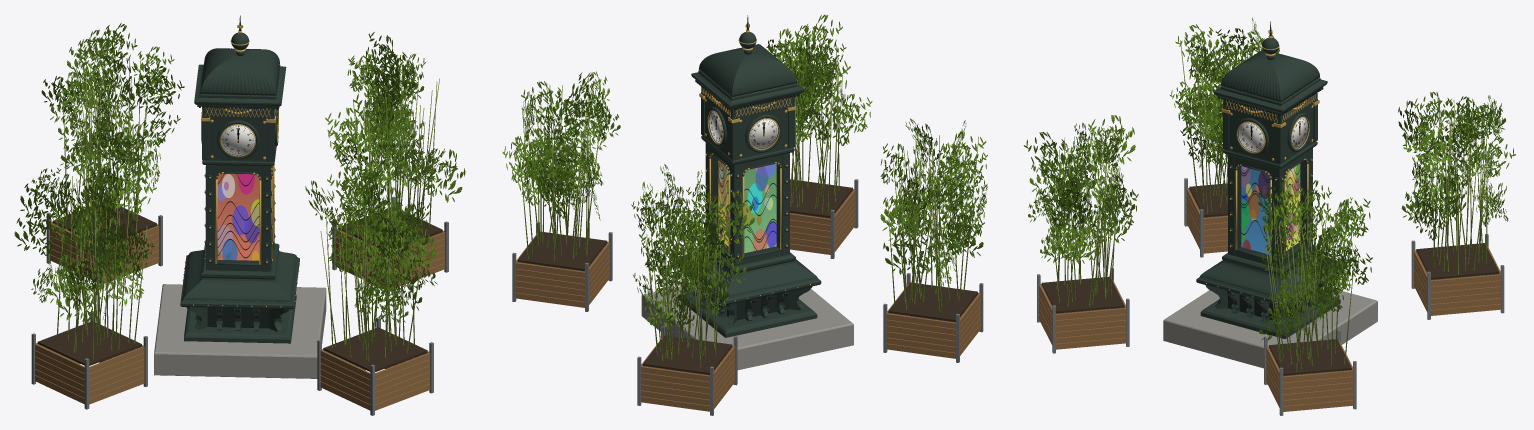
Rendered from kroepcke_uhr.glb.
3 renders of one model, left to right at view 1: azimuth 30°, elevation 25°; view 2: azimuth 150°, elevation 25°; view 3: azimuth 270°, elevation 25°, orthographic. The views are drawn at different scales.
Visible parts, largest first — view 1: Kroepcke_Uhr_Bambus_Blatt, Kroepcke_Uhr_Gusseisen_Gruen, Kroepcke_Uhr_Holz_Pflanzkuebel, Kroepcke_Uhr_Bambus_Halm, Kroepcke_Uhr_Granit_Stufe, Kroepcke_Uhr_Erde_Rinde, Kroepcke_Uhr_Vitrine_Kunst_2, Kroepcke_Uhr_Vitrinenglas, Kroepcke_Uhr_Stahl_verzinkt, Kroepcke_Uhr_Blattgold, Kroepcke_Uhr_Gusseisen_Dunkel, Kroepcke_Uhr_Zifferblatt; view 2: Kroepcke_Uhr_Bambus_Blatt, Kroepcke_Uhr_Gusseisen_Gruen, Kroepcke_Uhr_Holz_Pflanzkuebel, Kroepcke_Uhr_Bambus_Halm, Kroepcke_Uhr_Erde_Rinde, Kroepcke_Uhr_Granit_Stufe, Kroepcke_Uhr_Vitrinenglas, Kroepcke_Uhr_Vitrine_Kunst_3, Kroepcke_Uhr_Stahl_verzinkt, Kroepcke_Uhr_Blattgold, Kroepcke_Uhr_Zifferblatt, Kroepcke_Uhr_Gusseisen_Dunkel (+1 smaller); view 3: Kroepcke_Uhr_Bambus_Blatt, Kroepcke_Uhr_Gusseisen_Gruen, Kroepcke_Uhr_Holz_Pflanzkuebel, Kroepcke_Uhr_Bambus_Halm, Kroepcke_Uhr_Erde_Rinde, Kroepcke_Uhr_Granit_Stufe, Kroepcke_Uhr_Vitrinenglas, Kroepcke_Uhr_Vitrine_Kunst_1, Kroepcke_Uhr_Stahl_verzinkt, Kroepcke_Uhr_Blattgold, Kroepcke_Uhr_Zifferblatt, Kroepcke_Uhr_Vitrine_Kunst_0 (+1 smaller).
Boxes of the visible parts, left/top/right/bottom form: Kroepcke_Uhr_Bambus_Blatt: left=14, top=23, right=465, bottom=323; Kroepcke_Uhr_Gusseisen_Gruen: left=180, top=15, right=299, bottom=343; Kroepcke_Uhr_Holz_Pflanzkuebel: left=35, top=222, right=445, bottom=410; Kroepcke_Uhr_Bambus_Halm: left=56, top=55, right=439, bottom=361; Kroepcke_Uhr_Granit_Stufe: left=154, top=284, right=326, bottom=378; Kroepcke_Uhr_Erde_Rinde: left=37, top=201, right=442, bottom=372; Kroepcke_Uhr_Vitrine_Kunst_2: left=217, top=173, right=259, bottom=260; Kroepcke_Uhr_Vitrinenglas: left=218, top=174, right=258, bottom=263; Kroepcke_Uhr_Stahl_verzinkt: left=31, top=190, right=448, bottom=415; Kroepcke_Uhr_Blattgold: left=180, top=24, right=299, bottom=307; Kroepcke_Uhr_Gusseisen_Dunkel: left=197, top=105, right=279, bottom=328; Kroepcke_Uhr_Zifferblatt: left=221, top=124, right=254, bottom=155; Kroepcke_Uhr_Bambus_Blatt: left=502, top=14, right=987, bottom=331; Kroepcke_Uhr_Gusseisen_Gruen: left=678, top=15, right=821, bottom=337; Kroepcke_Uhr_Holz_Pflanzkuebel: left=515, top=189, right=980, bottom=411; Kroepcke_Uhr_Bambus_Halm: left=519, top=35, right=978, bottom=368; Kroepcke_Uhr_Erde_Rinde: left=517, top=179, right=977, bottom=374; Kroepcke_Uhr_Granit_Stufe: left=641, top=284, right=853, bottom=369; Kroepcke_Uhr_Vitrinenglas: left=713, top=156, right=779, bottom=255; Kroepcke_Uhr_Vitrine_Kunst_3: left=744, top=164, right=776, bottom=253; Kroepcke_Uhr_Stahl_verzinkt: left=512, top=179, right=983, bottom=415; Kroepcke_Uhr_Blattgold: left=699, top=24, right=810, bottom=301; Kroepcke_Uhr_Zifferblatt: left=709, top=111, right=778, bottom=148; Kroepcke_Uhr_Gusseisen_Dunkel: left=695, top=80, right=800, bottom=320; Kroepcke_Uhr_Bambus_Blatt: left=1023, top=18, right=1515, bottom=340; Kroepcke_Uhr_Gusseisen_Gruen: left=1196, top=21, right=1343, bottom=338; Kroepcke_Uhr_Holz_Pflanzkuebel: left=1039, top=188, right=1500, bottom=411; Kroepcke_Uhr_Bambus_Halm: left=1048, top=40, right=1488, bottom=371; Kroepcke_Uhr_Erde_Rinde: left=1041, top=183, right=1499, bottom=375; Kroepcke_Uhr_Granit_Stufe: left=1163, top=286, right=1377, bottom=368; Kroepcke_Uhr_Vitrinenglas: left=1238, top=161, right=1305, bottom=256; Kroepcke_Uhr_Vitrine_Kunst_1: left=1241, top=166, right=1270, bottom=254; Kroepcke_Uhr_Stahl_verzinkt: left=1037, top=178, right=1504, bottom=415; Kroepcke_Uhr_Blattgold: left=1206, top=29, right=1319, bottom=302; Kroepcke_Uhr_Zifferblatt: left=1238, top=117, right=1307, bottom=151; Kroepcke_Uhr_Vitrine_Kunst_0: left=1286, top=163, right=1300, bottom=250.
Size of the model in its own units: 9.51 by 6.61 by 9.64.
Materials: 16 (5 with a texture image).
